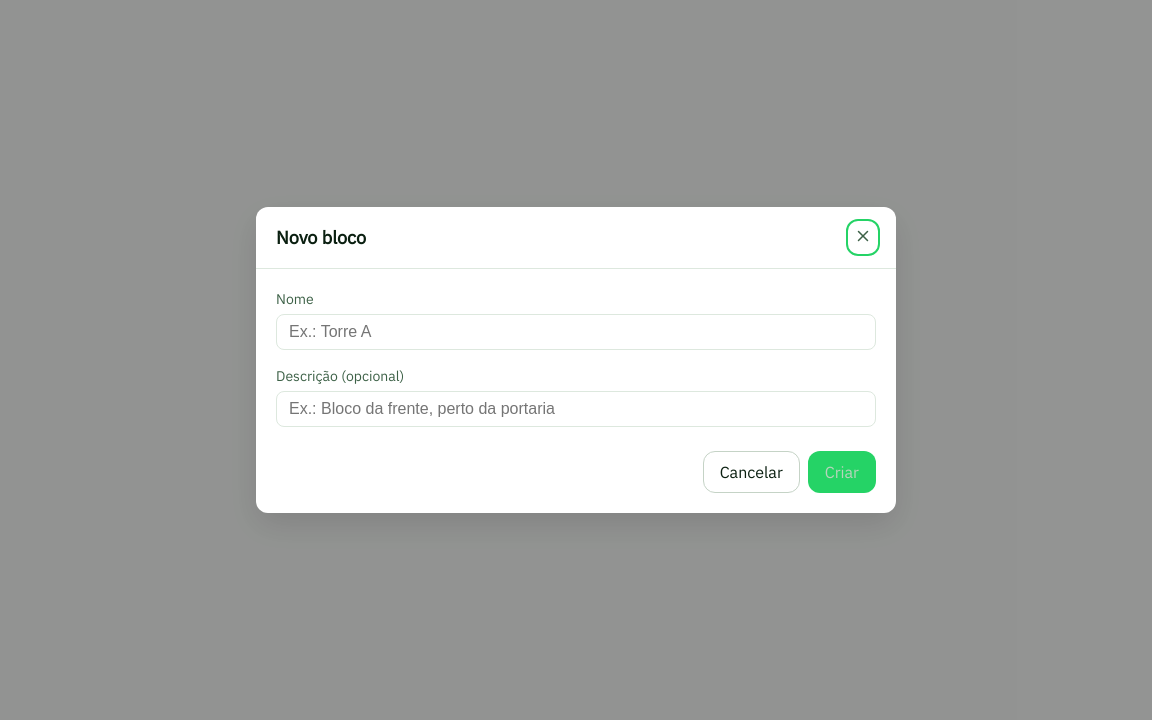
Test case: BlockFormModal — criação (block=null) › submit desabilitado até preencher o nome
Check: the button "Criar" is disabled, box [808,451,876,493]
In the field labelled "Nome": (576, 332) [276,314,876,350], type "Torre A"
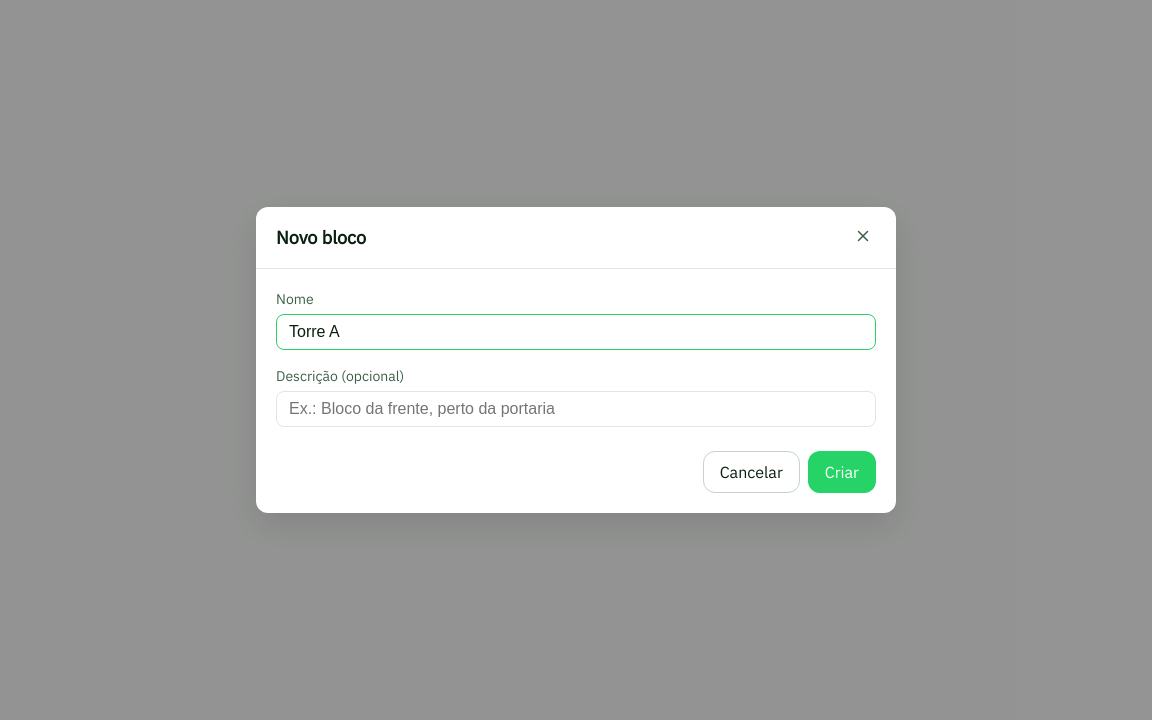
Check: the button "Criar" is enabled, box [808,451,876,493]
